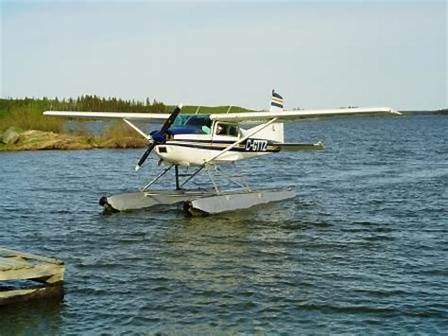Aeronef_commercial: (38, 86, 412, 231)
